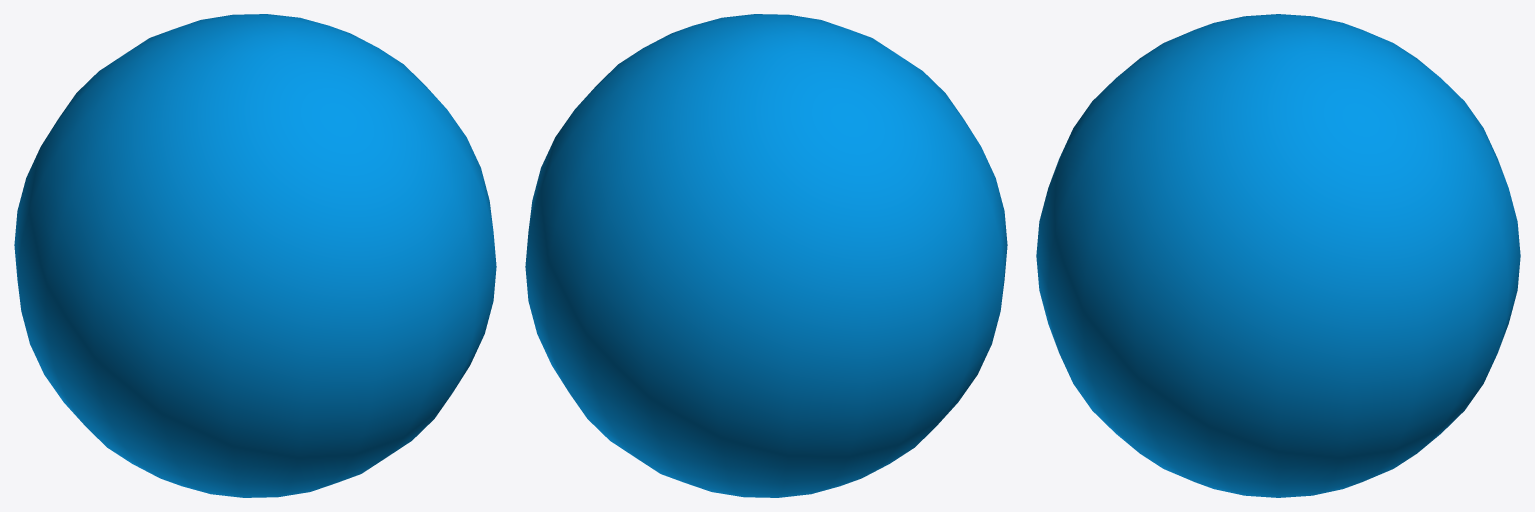
The model's file is ShieldSphere.fbx.
3 renders of one model, left to right at view 1: azimuth 30°, elevation 25°; view 2: azimuth 150°, elevation 25°; view 3: azimuth 270°, elevation 25°, orthographic.
Parts seen in each view (by area): view 1: ShieldSphere; view 2: ShieldSphere; view 3: ShieldSphere.
Boxes of the visible parts, x1,y1,x2,y2 form: ShieldSphere: (14,14,496,497); ShieldSphere: (525,14,1007,497); ShieldSphere: (1036,14,1520,497).
Size of the model in its own units: 14.76 by 14.76 by 14.76.
